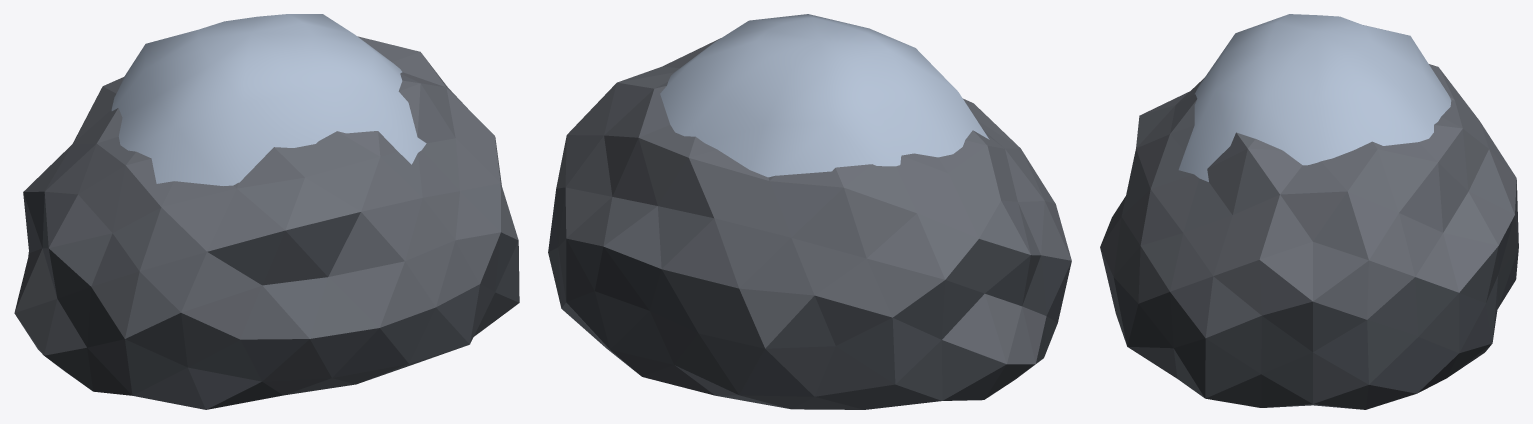
Rendered from rock_a.glb.
3 views of the same model, side by side, from view 1: azimuth 30°, elevation 25°; view 2: azimuth 150°, elevation 25°; view 3: azimuth 270°, elevation 25° (orthographic). The views are drawn at different scales.
Parts seen in each view (by area): view 1: Rock; view 2: Rock; view 3: Rock.
Boxes of the visible parts, x1,y1,x2,y2 form: Rock: (14,14,519,409); Rock: (548,14,1071,409); Rock: (1100,14,1518,409).
Bounding box in the file's own units: 1.2 × 0.7354 × 1.
